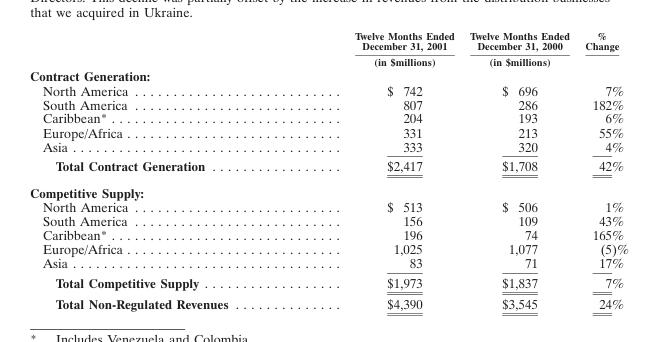table: (29, 29, 628, 311)
table column: (29, 29, 290, 311), (290, 29, 461, 311), (461, 29, 576, 311), (576, 29, 628, 311)
table column header: (29, 29, 628, 67)
table projected row header: (29, 179, 628, 199), (29, 67, 628, 82)
table row: (29, 29, 628, 67), (29, 155, 628, 179), (29, 179, 628, 199), (29, 272, 628, 292), (29, 292, 628, 311), (29, 138, 628, 155), (29, 255, 628, 272), (29, 67, 628, 82), (29, 82, 628, 96), (29, 96, 628, 110), (29, 110, 628, 124), (29, 124, 628, 138), (29, 199, 628, 213), (29, 213, 628, 227), (29, 227, 628, 241), (29, 241, 628, 255)
